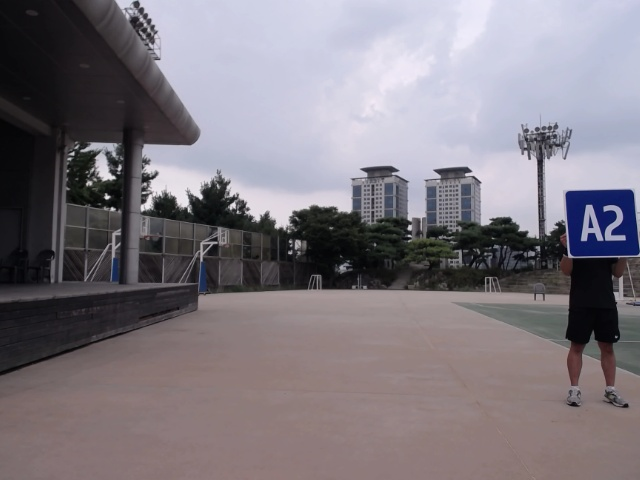delivery_a2: (565, 187, 639, 257)
